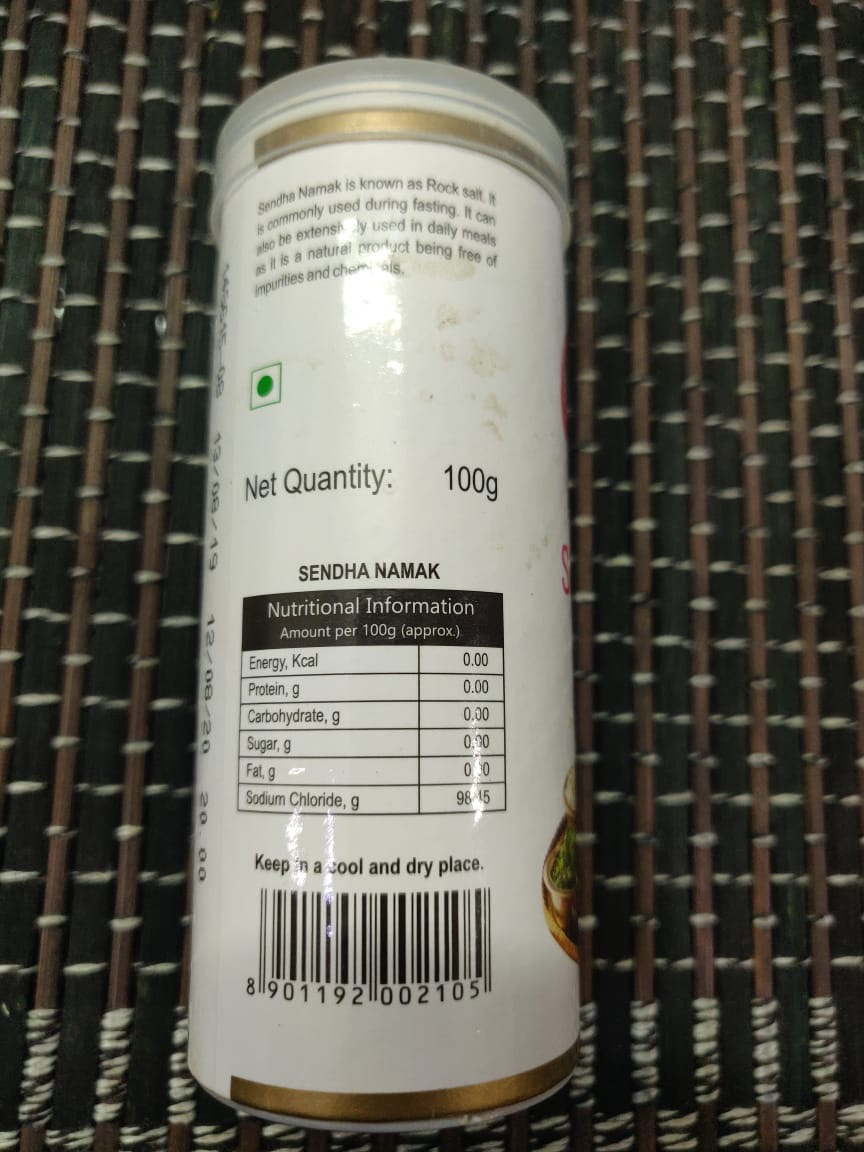barcode: (234, 873, 517, 1020)
